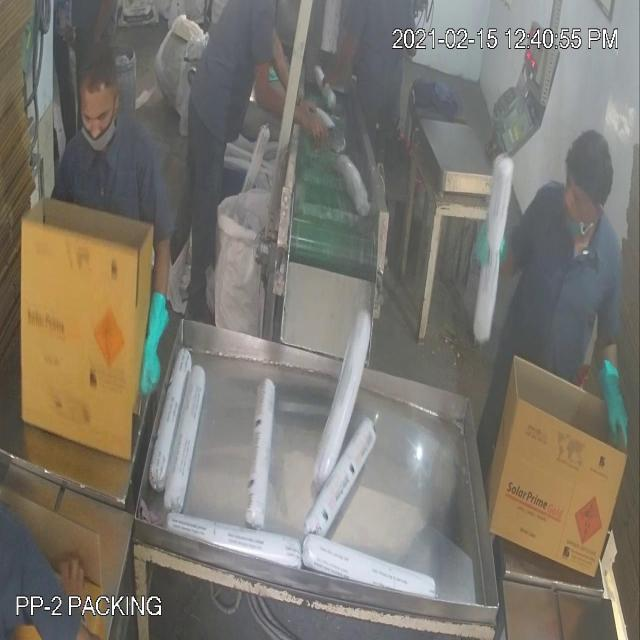gloves: (583, 332, 640, 464), (128, 267, 176, 409)
no-gloves: (250, 59, 334, 145)
